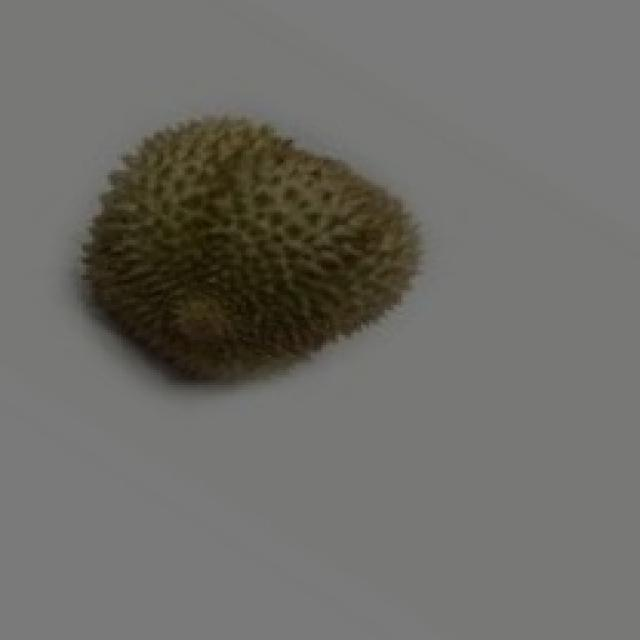fruit: (52, 75, 456, 427)
